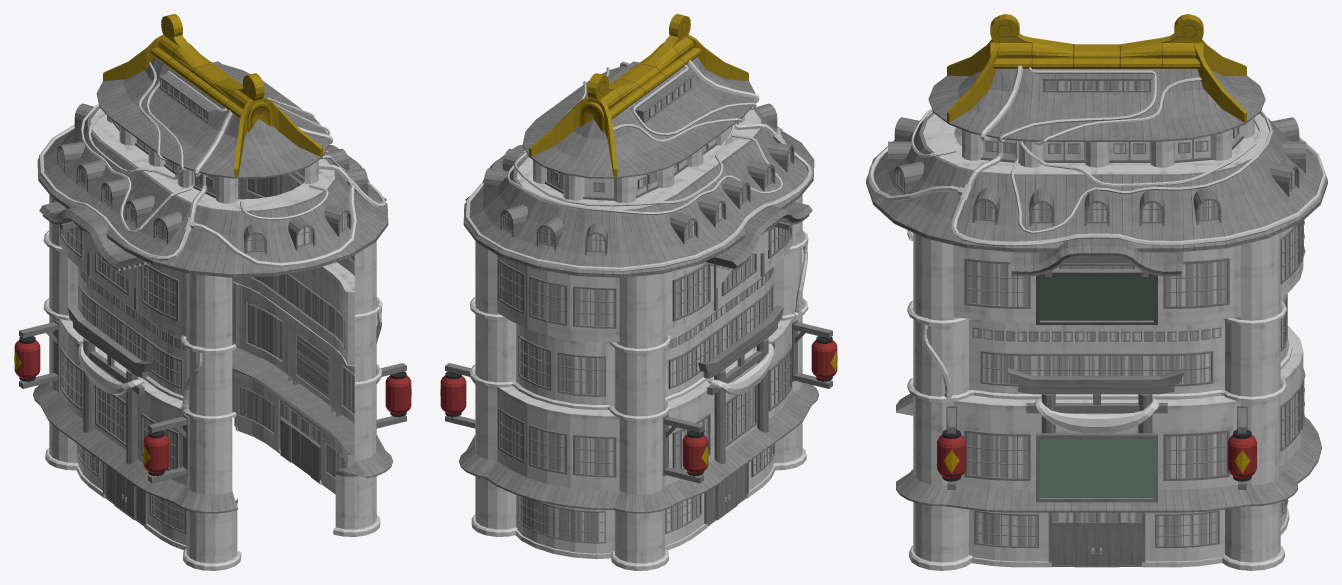
The model's file is REDUCTION_SM_ENV_KNVLLG_CommonBuilding_E_3.mo.fbx.
The picture shows the model from 3 angles, left to right: view 1: azimuth 30°, elevation 25°; view 2: azimuth 150°, elevation 25°; view 3: azimuth 270°, elevation 25°; orthographic projection. The views are drawn at different scales.
Visible parts, largest first — view 1: REDUCTION_SM_ENV_KNVLLG_CommonBuilding_E_3.mo; view 2: REDUCTION_SM_ENV_KNVLLG_CommonBuilding_E_3.mo; view 3: REDUCTION_SM_ENV_KNVLLG_CommonBuilding_E_3.mo.
Part boxes in pixels (x1,y1,x2,y2): REDUCTION_SM_ENV_KNVLLG_CommonBuilding_E_3.mo: (14,14,411,570); REDUCTION_SM_ENV_KNVLLG_CommonBuilding_E_3.mo: (440,14,837,570); REDUCTION_SM_ENV_KNVLLG_CommonBuilding_E_3.mo: (866,14,1327,570).
Bounding box in the file's own units: 27.6 × 43.2 × 36.
